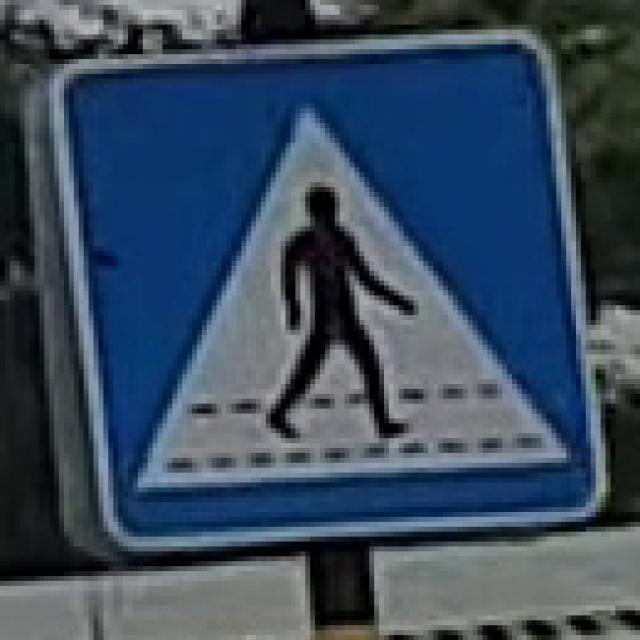zebracrossing_sign: (34, 24, 610, 552)
